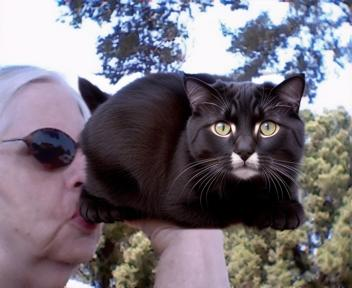cat: (78, 73, 304, 229)
person: (1, 66, 231, 288)
